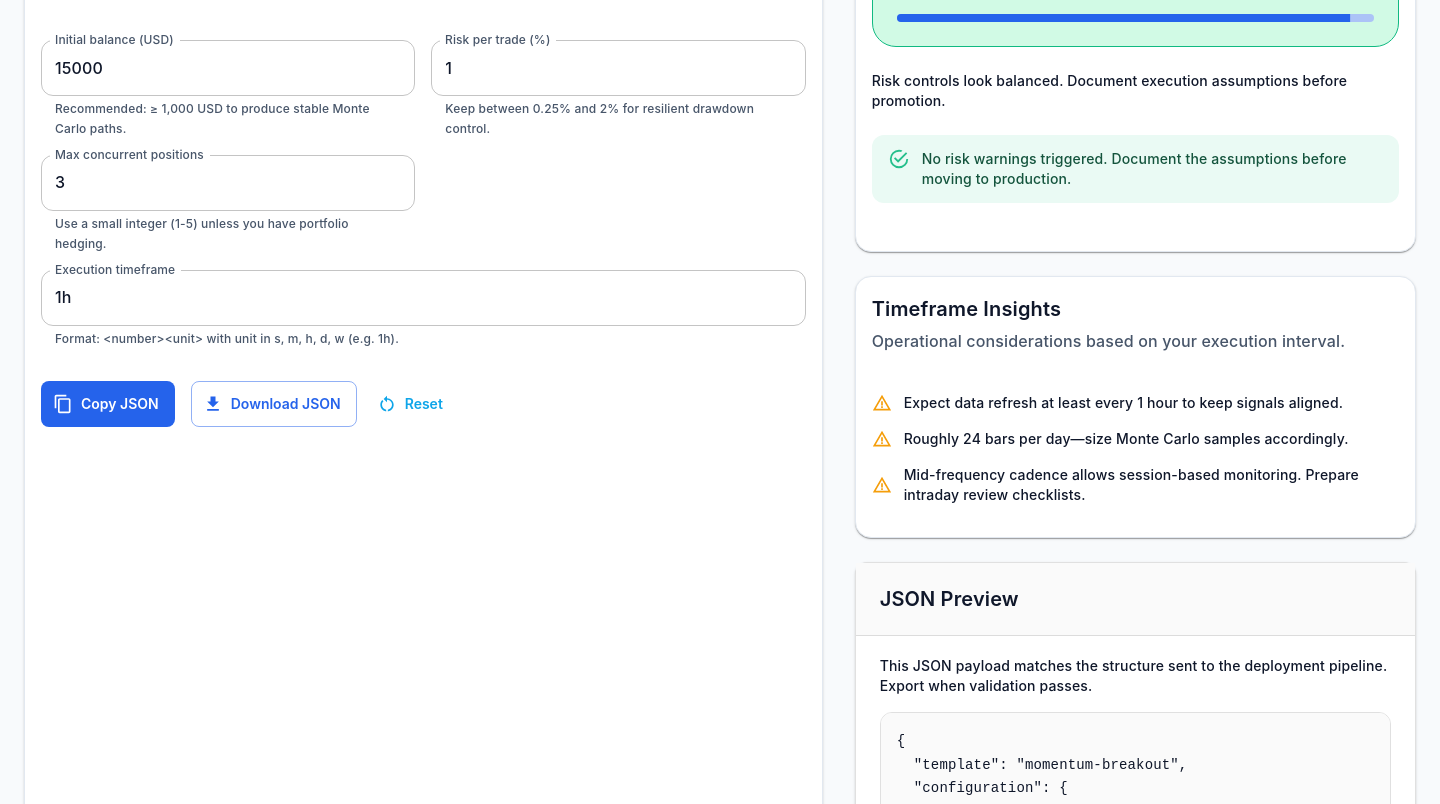
Scenario Studio home page › copies the scenario JSON to the clipboard on demand
(page scrolled)
Step 1. Click the button with test id "action-copy" → (108, 404), box [41,381,175,427]
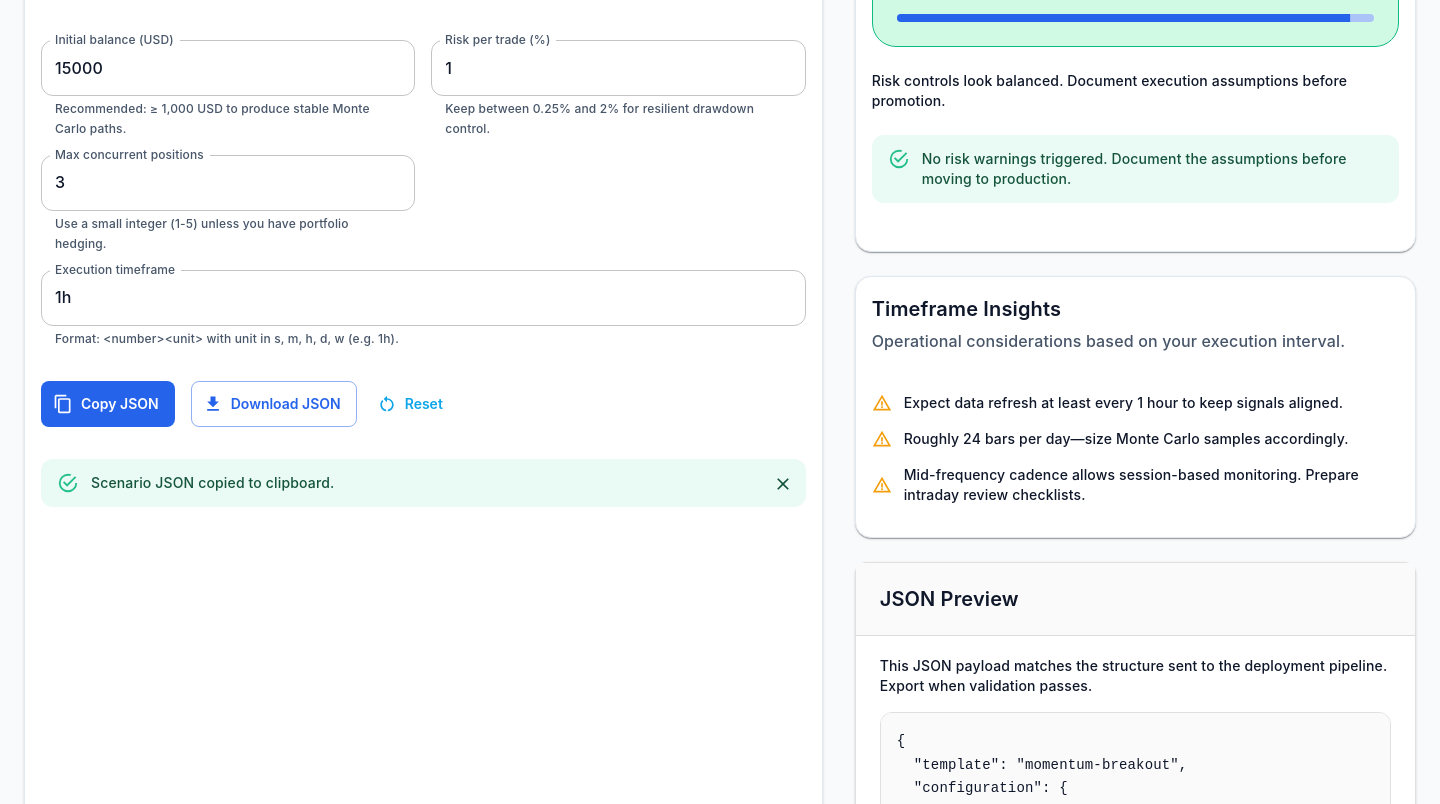
Expected: the message with test id "action-feedback" reads "Scenario JSON copied to clipboard.", [91,474,334,491]
